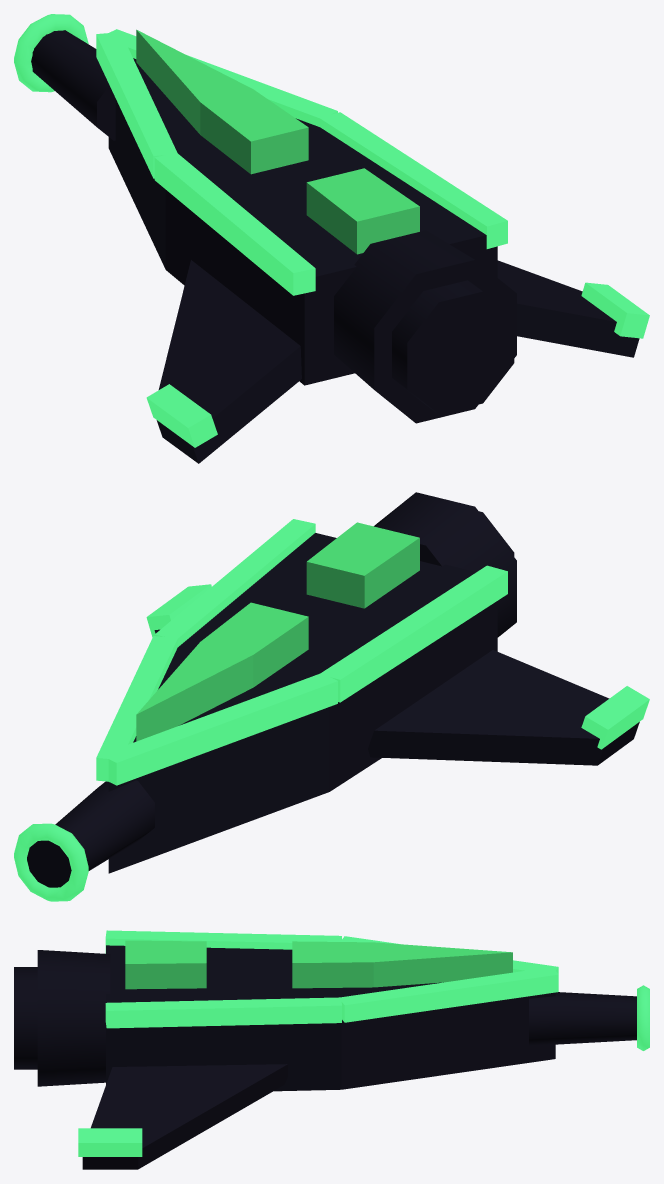
Rendered from drone_wingman.glb.
3 renders of one model, top to bottom at view 1: azimuth 30°, elevation 25°; view 2: azimuth 150°, elevation 25°; view 3: azimuth 270°, elevation 25°, orthographic. The views are drawn at different scales.
Visible parts, largest first — view 1: dart_body, fin_port, thruster_housing, nozzle_plate, dorsal_ridge, outline_light_port_2, dorsal_plate_aft, fin_starboard, outline_light_starboard_2, gun_port, outline_light_port_1, fin_light_port (+3 smaller); view 2: dart_body, fin_port, dorsal_ridge, outline_light_port_1, thruster_housing, outline_light_port_2, dorsal_plate_aft, gun_port, outline_light_starboard_2, outline_light_starboard_1, gun_port_light, fin_light_port (+1 smaller); view 3: dart_body, fin_starboard, thruster_housing, dorsal_ridge, outline_light_starboard_2, outline_light_starboard_1, gun_port, dorsal_plate_aft, outline_light_port_2, nozzle_plate, fin_light_starboard, gun_port_light (+1 smaller).
Boxes of the visible parts, box(x1,y1,x2,y2) form: dart_body: box(108, 58, 497, 385); fin_port: box(156, 260, 301, 463); thruster_housing: box(334, 230, 516, 423); nozzle_plate: box(392, 280, 514, 413); dorsal_ridge: box(136, 29, 308, 174); outline_light_port_2: box(154, 152, 315, 295); dorsal_plate_aft: box(306, 168, 419, 254); fin_starboard: box(497, 260, 639, 357); outline_light_starboard_2: box(320, 112, 507, 248); gun_port: box(31, 30, 115, 140); outline_light_port_1: box(96, 32, 177, 178); fin_light_port: box(146, 384, 217, 447); dart_body: box(108, 533, 497, 873); fin_port: box(368, 650, 639, 765); dorsal_ridge: box(136, 602, 308, 741); outline_light_port_1: box(104, 673, 337, 785); thruster_housing: box(374, 492, 516, 637); outline_light_port_2: box(321, 565, 507, 702); dorsal_plate_aft: box(306, 522, 419, 608); gun_port: box(27, 780, 154, 887); outline_light_starboard_2: box(154, 519, 315, 646); outline_light_starboard_1: box(96, 636, 177, 781); gun_port_light: box(14, 823, 88, 901); fin_light_port: box(581, 686, 649, 749); dart_body: box(106, 945, 555, 1091); fin_starboard: box(82, 1064, 287, 1169); thruster_housing: box(37, 950, 110, 1086); dorsal_ridge: box(292, 941, 512, 988); outline_light_starboard_2: box(105, 997, 341, 1028); outline_light_starboard_1: box(339, 969, 558, 1022); gun_port: box(529, 992, 636, 1045); dorsal_plate_aft: box(125, 940, 206, 989); outline_light_port_2: box(105, 930, 341, 953); nozzle_plate: box(14, 967, 37, 1069); fin_light_starboard: box(78, 1128, 142, 1156); gun_port_light: box(637, 985, 649, 1050).
Size of the model in its own units: 1.91 by 0.6988 by 2.97.
